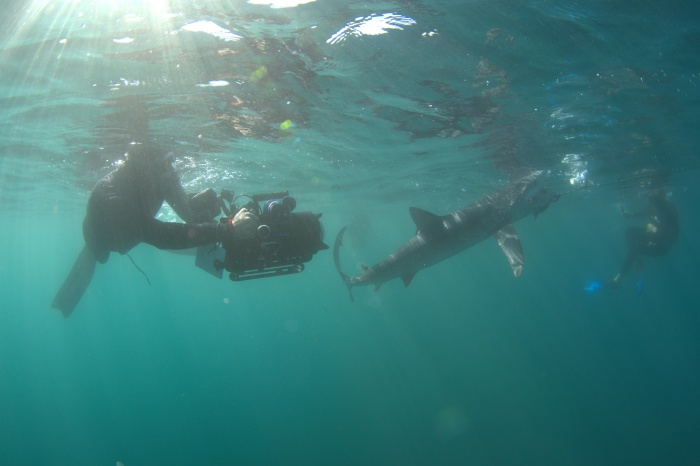Azul: (324, 166, 580, 332)
